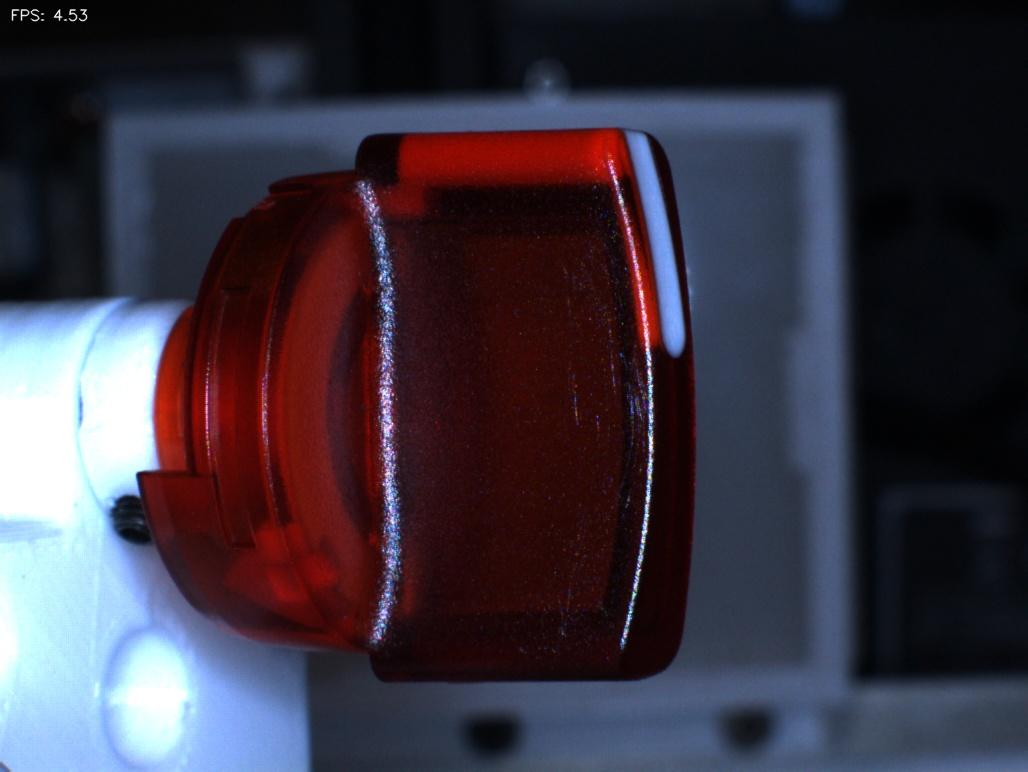Givrage: (570, 286, 648, 536)
